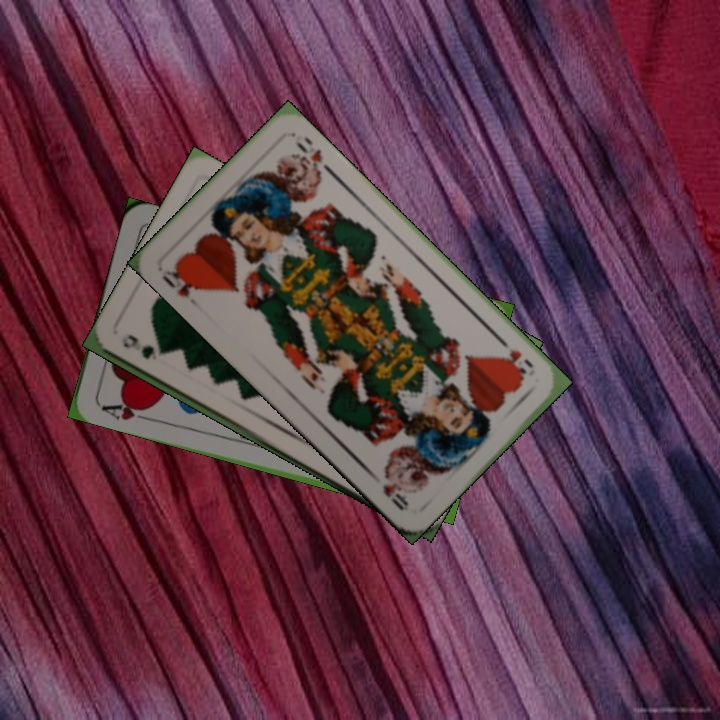G9: (119, 332, 168, 363)
HA: (97, 396, 154, 424)
HO: (157, 262, 204, 311), (495, 333, 536, 381)
